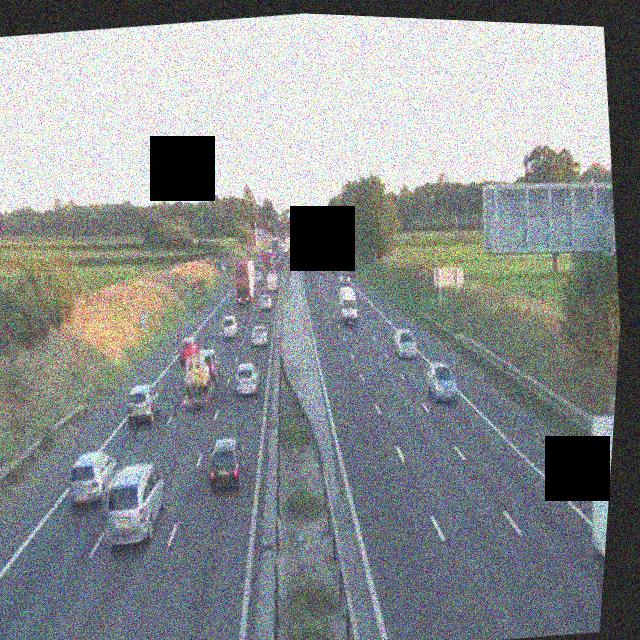car: (98, 458, 172, 548), (63, 447, 120, 509), (204, 436, 248, 492), (122, 382, 164, 428), (423, 359, 460, 404), (391, 325, 421, 361), (232, 362, 261, 396), (198, 346, 222, 384), (174, 336, 201, 365), (248, 323, 270, 348), (219, 313, 239, 339), (258, 292, 273, 309), (338, 269, 350, 284), (302, 260, 313, 272)
truck: (571, 412, 614, 631), (175, 348, 222, 410), (229, 258, 257, 305), (316, 231, 331, 258), (263, 269, 279, 292)
